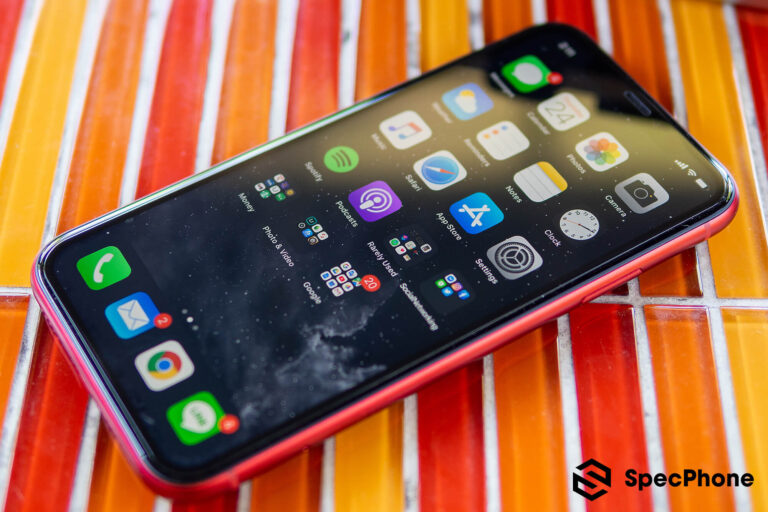phone: (27, 21, 746, 504)
